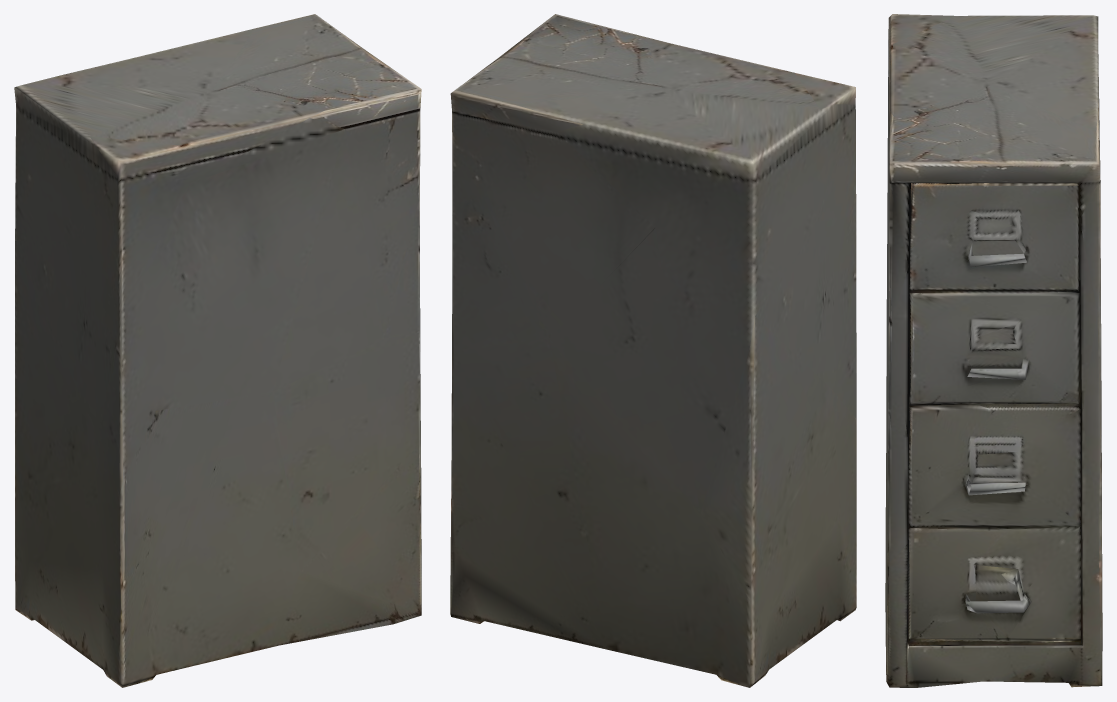
File: tripo_convert_72265bd5-4a1f-494e-8c4f-51a8ecb84c2b.fbx
The picture shows the model from 3 angles, left to right: view 1: azimuth 30°, elevation 25°; view 2: azimuth 150°, elevation 25°; view 3: azimuth 270°, elevation 25°; orthographic projection.
Visible parts, largest first — view 1: tripo_node_72265bd5; view 2: tripo_node_72265bd5; view 3: tripo_node_72265bd5.
Part boxes in pixels (bbox=[...]): tripo_node_72265bd5: bbox=[14, 14, 421, 687]; tripo_node_72265bd5: bbox=[450, 14, 856, 687]; tripo_node_72265bd5: bbox=[885, 14, 1102, 687].
Bounding box in the file's own units: 0.6365 × 0.9996 × 0.373.
1 material, 1 textured.
